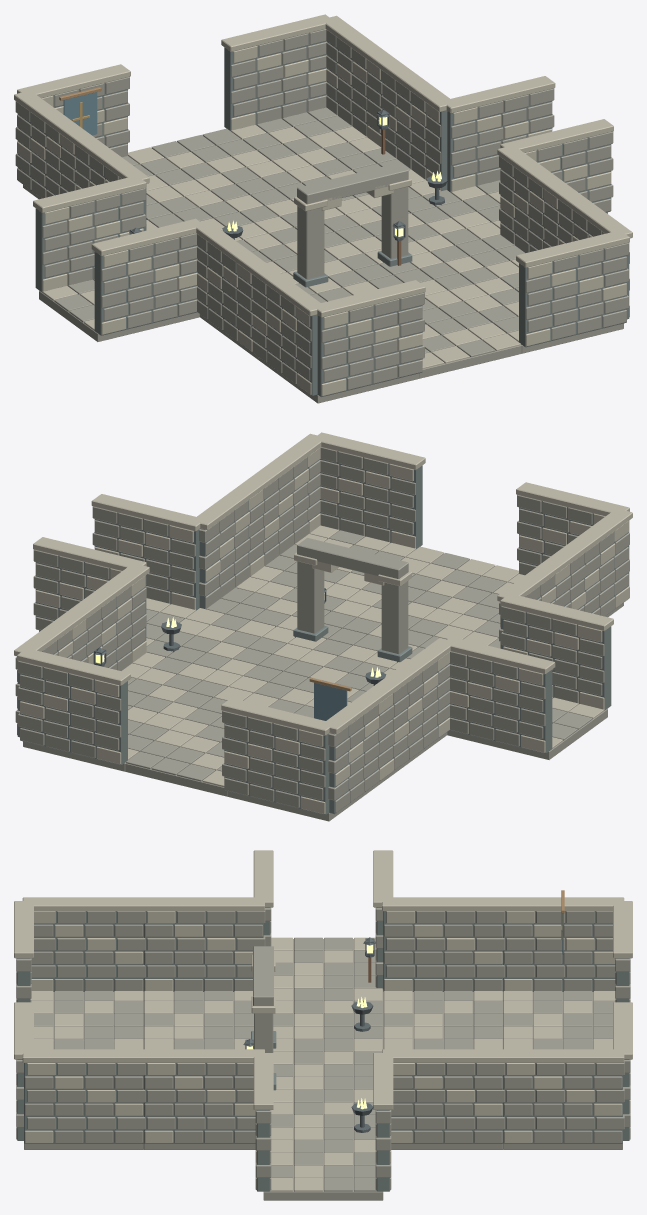
Rendered from tv_44_02_dungeon_junction.glb.
3 views of the same model, one above another, from view 1: azimuth 30°, elevation 25°; view 2: azimuth 150°, elevation 25°; view 3: azimuth 270°, elevation 25° (orthographic).
Visible parts, largest first — view 1: wall_0026, wall_0020, wall_0018, wall_0030, wall_0017, wall_0031, arch_0033, wall_0019, wall_0028, floor_stone_0010, wall_0021, wall_0029 (+21 smaller); view 2: wall_0030, wall_0023, wall_0017, wall_0026, wall_0018, wall_0032, arch_0033, wall_0024, wall_0027, wall_0025, floor_stone_0013, wall_0022 (+21 smaller); view 3: wall_0025, wall_0029, wall_0022, wall_0021, wall_0028, wall_0019, wall_0027, wall_0024, floor_stone_0016, floor_stone_0004, floor_stone_0001, floor_stone_0005 (+22 smaller).
Part boxes in pixels (x1,y1,x2,y2): wall_0026: (516, 231, 629, 347); wall_0020: (313, 280, 425, 396); wall_0018: (91, 218, 204, 335); wall_0030: (221, 14, 333, 131); wall_0017: (33, 176, 146, 292); wall_0031: (442, 76, 555, 192); arch_0033: (293, 163, 412, 287); wall_0019: (250, 263, 325, 396); wall_0028: (379, 59, 454, 190); floor_stone_0010: (128, 128, 284, 197); wall_0021: (196, 220, 265, 352); wall_0029: (322, 15, 395, 146); wall_0030: (17, 648, 130, 765); wall_0023: (221, 698, 333, 814); wall_0017: (442, 636, 555, 753); wall_0026: (313, 432, 425, 549); wall_0018: (500, 593, 613, 710); wall_0032: (91, 494, 204, 610); arch_0033: (293, 538, 412, 662); wall_0024: (321, 681, 396, 814); wall_0027: (192, 477, 266, 608); wall_0025: (251, 433, 325, 565); floor_stone_0013: (146, 608, 294, 676); wall_0022: (381, 638, 450, 770); wall_0025: (22, 1049, 145, 1143); wall_0029: (502, 1049, 624, 1143); wall_0022: (382, 897, 504, 991); wall_0021: (143, 897, 265, 991); wall_0028: (382, 1049, 504, 1143); wall_0019: (22, 897, 145, 991); wall_0027: (143, 1049, 264, 1143); wall_0024: (502, 897, 624, 991); floor_stone_0016: (263, 1140, 383, 1200); floor_stone_0004: (383, 991, 503, 1040); floor_stone_0001: (31, 991, 143, 1040); floor_stone_0005: (503, 991, 615, 1040).
Size of the model in its own units: 20.11 by 4.13 by 20.67.
